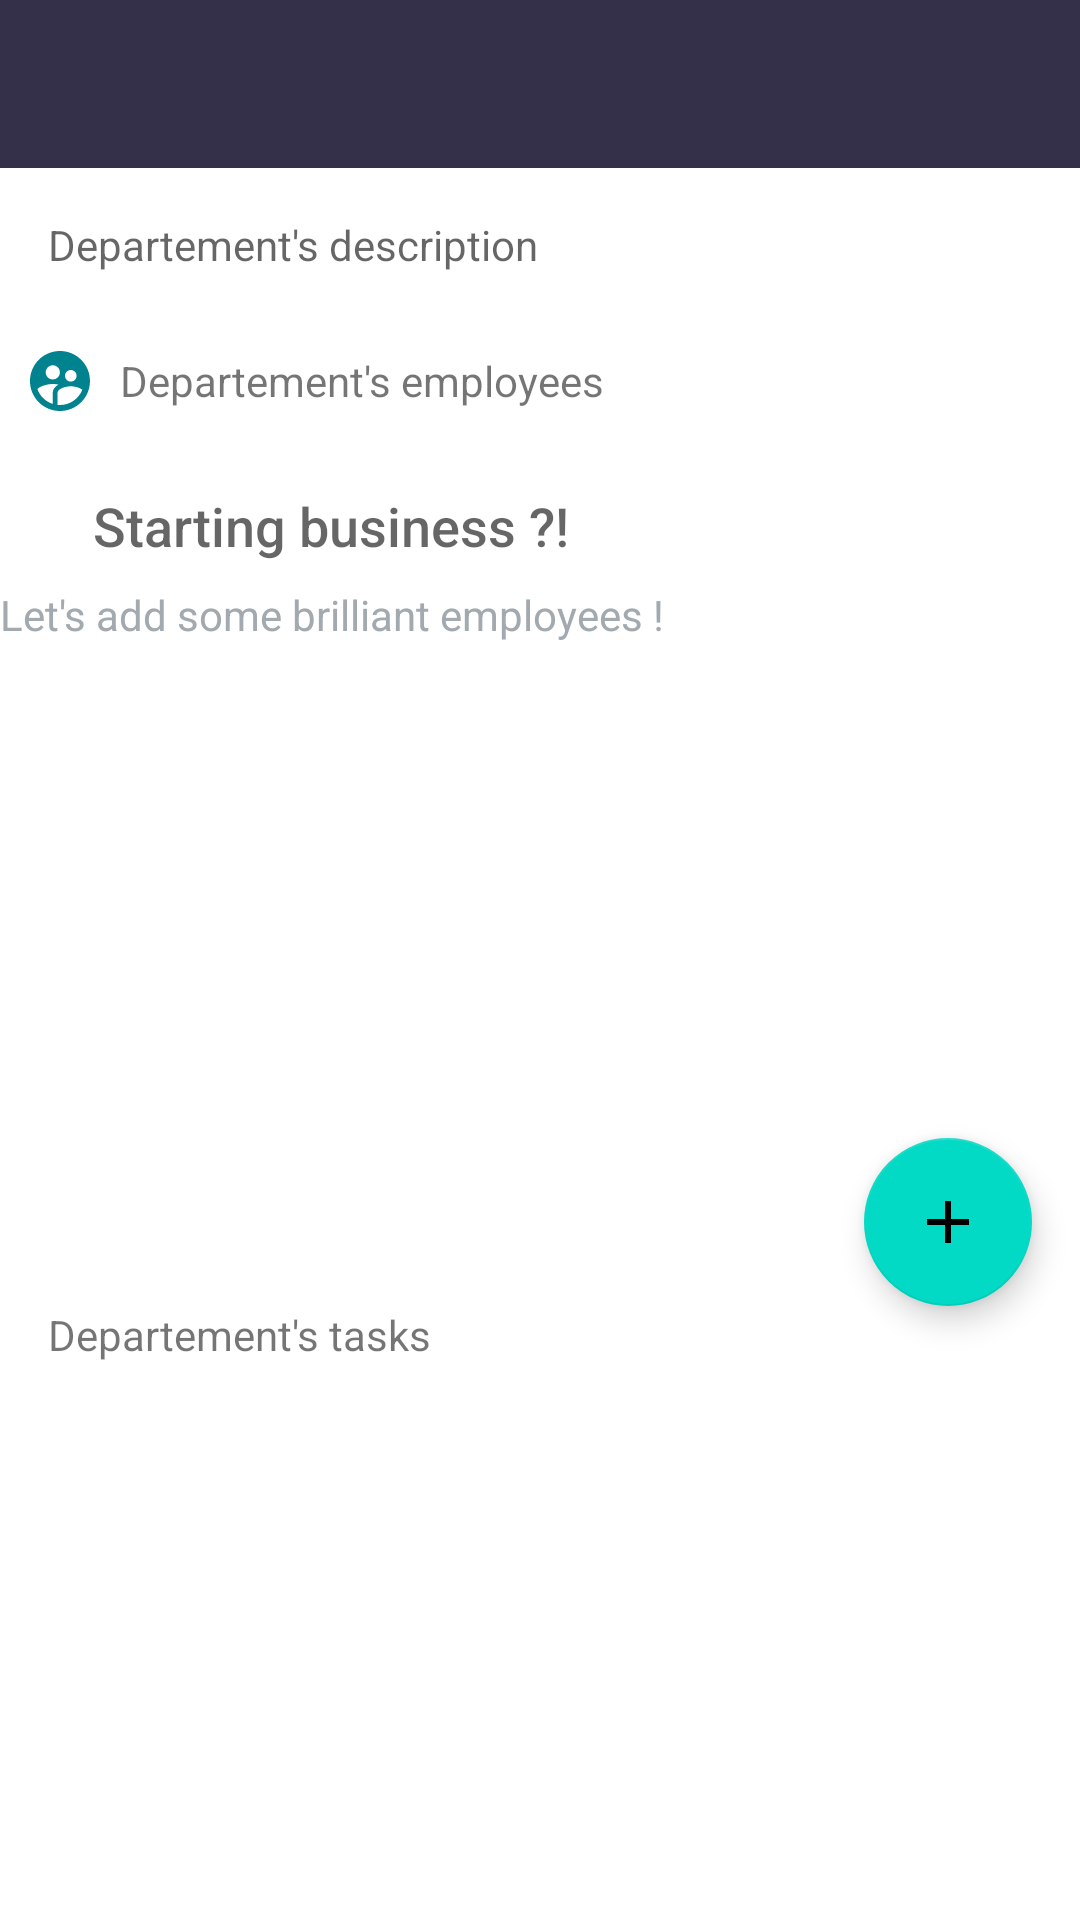

Where to tap for icons on this 1080 x 1920 app screen, as (x,y):
add: (948,1222)
supervised user circle: (60,381)
